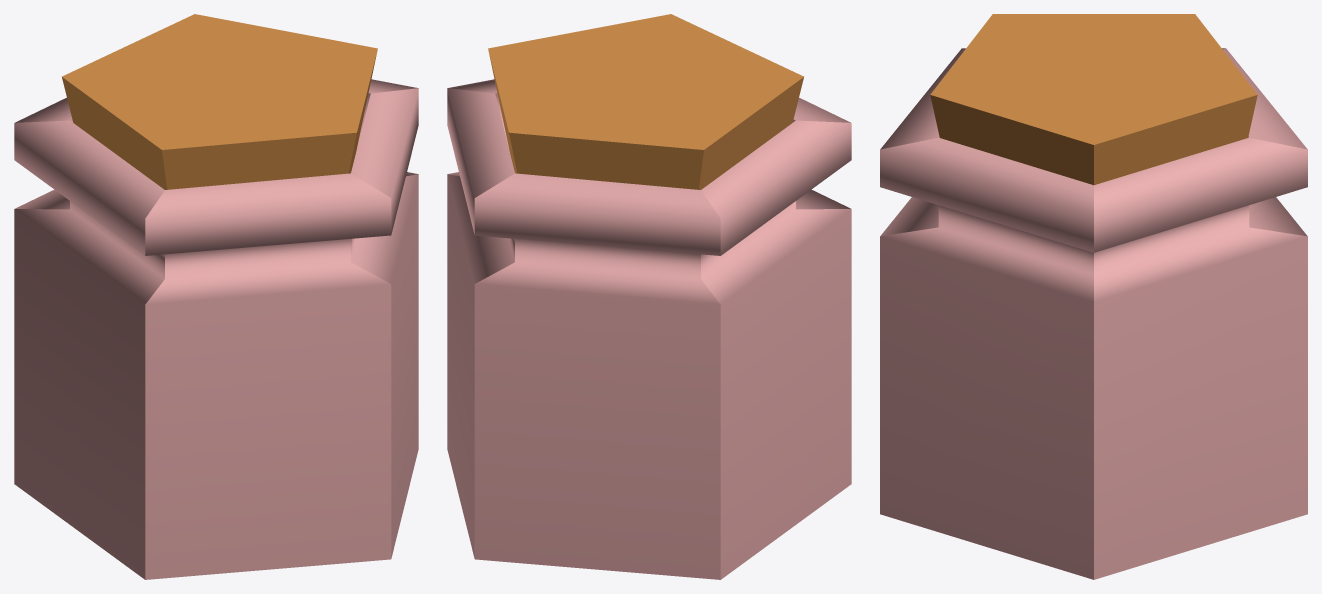
The model's file is Health Potion.fbx.
3 renders of one model, left to right at view 1: azimuth 30°, elevation 25°; view 2: azimuth 150°, elevation 25°; view 3: azimuth 270°, elevation 25°, orthographic.
Visible parts, largest first — view 1: pCylinder11; view 2: pCylinder11; view 3: pCylinder11.
Part boxes in pixels (x1,y1,x2,y2): pCylinder11: [14, 14, 418, 579]; pCylinder11: [447, 14, 851, 579]; pCylinder11: [880, 14, 1307, 579].
Bounding box in the file's own units: 1.73 × 2.21 × 1.87.
